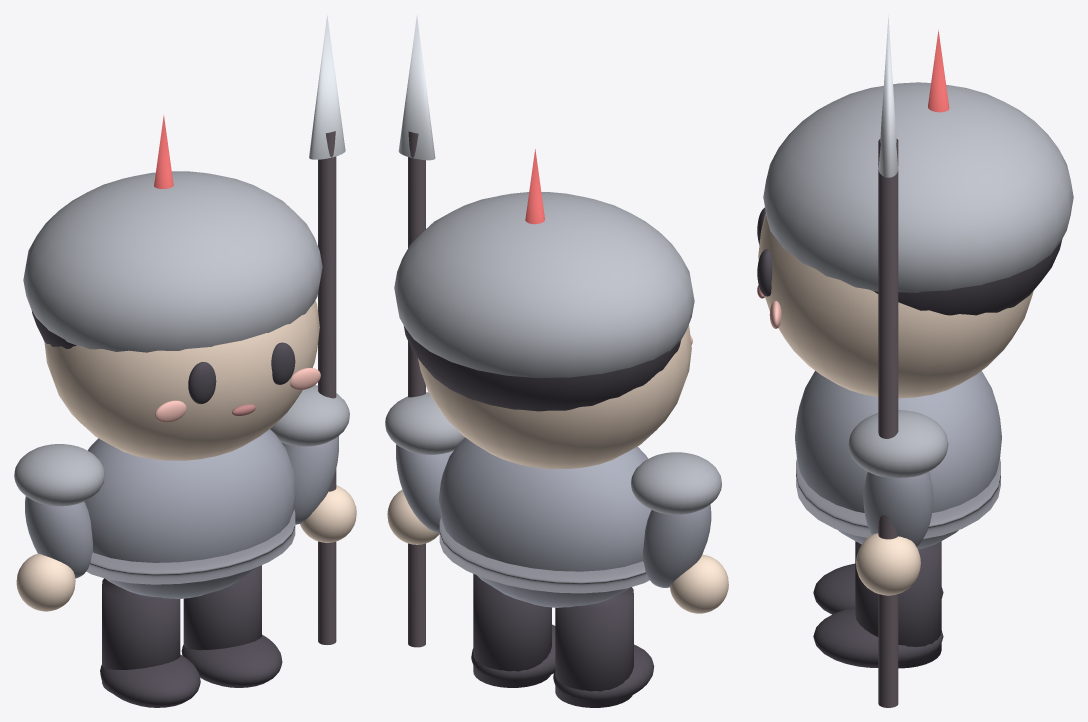
The model's file is r_shield.fbx.
The picture shows the model from 3 angles, left to right: view 1: azimuth 30°, elevation 25°; view 2: azimuth 150°, elevation 25°; view 3: azimuth 270°, elevation 25°; orthographic projection. The views are drawn at different scales.
Parts seen in each view (by area): view 1: helmet, head_mesh, body, wp_shaft, leg, leg.001, belt, pauldron.001, arm_mesh.001, shoe, shoe.001, pauldron (+9 smaller); view 2: helmet, body, head_mesh, hair, leg, leg.001, belt, pauldron.001, wp_shaft, arm_mesh.001, pauldron, arm_mesh (+6 smaller); view 3: helmet, head_mesh, body, wp_shaft, leg.001, pauldron, hair, arm_mesh, belt, shoe.001, hand_mesh, wp_tip (+3 smaller).
Part boxes in pixels (bbox=[...]): helmet: bbox=[23, 171, 322, 352]; head_mesh: bbox=[44, 300, 319, 460]; body: bbox=[84, 429, 296, 598]; wp_shaft: bbox=[318, 131, 336, 644]; leg: bbox=[102, 578, 180, 692]; leg.001: bbox=[183, 565, 261, 650]; belt: bbox=[86, 509, 295, 584]; pauldron.001: bbox=[14, 444, 104, 506]; arm_mesh.001: bbox=[25, 496, 93, 578]; shoe: bbox=[100, 654, 200, 707]; shoe.001: bbox=[181, 634, 282, 687]; pauldron: bbox=[270, 385, 349, 446]; helmet: bbox=[394, 192, 694, 377]; body: bbox=[438, 437, 651, 607]; head_mesh: bbox=[418, 325, 691, 468]; hair: bbox=[404, 326, 680, 411]; leg: bbox=[555, 587, 633, 707]; leg.001: bbox=[473, 574, 551, 687]; belt: bbox=[439, 518, 649, 593]; pauldron.001: bbox=[631, 452, 721, 514]; wp_shaft: bbox=[408, 131, 425, 647]; arm_mesh.001: bbox=[642, 504, 711, 587]; pauldron: bbox=[385, 392, 464, 454]; arm_mesh: bbox=[396, 444, 453, 533]; helmet: bbox=[763, 82, 1073, 292]; head_mesh: bbox=[758, 213, 1033, 398]; body: bbox=[795, 371, 1001, 549]; wp_shaft: bbox=[878, 139, 898, 707]; leg.001: bbox=[855, 541, 941, 668]; pauldron: bbox=[848, 410, 948, 477]; hair: bbox=[873, 239, 1062, 315]; arm_mesh: bbox=[863, 471, 933, 546]; belt: bbox=[796, 459, 1000, 538]; shoe.001: bbox=[813, 607, 943, 667]; hand_mesh: bbox=[856, 533, 920, 595]; wp_tip: bbox=[878, 15, 898, 177].
Size of the model in its own units: 0.843 by 1.54 by 0.632.
